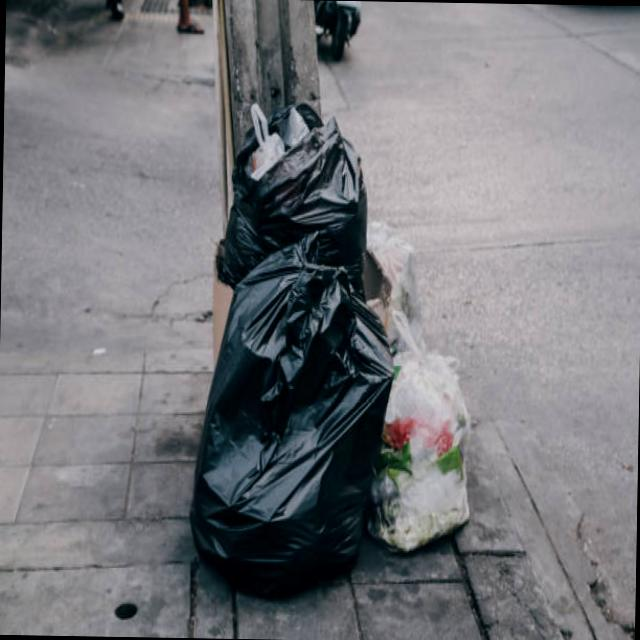garbage: (176, 82, 479, 612)
